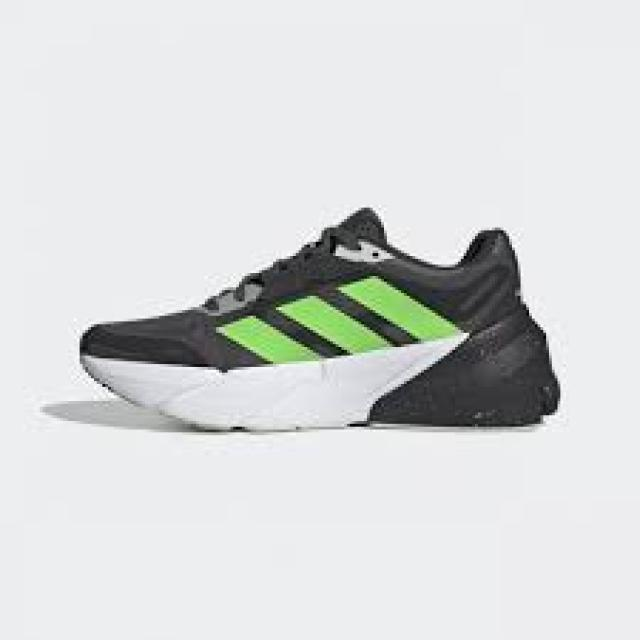shoe: (76, 203, 566, 434)
